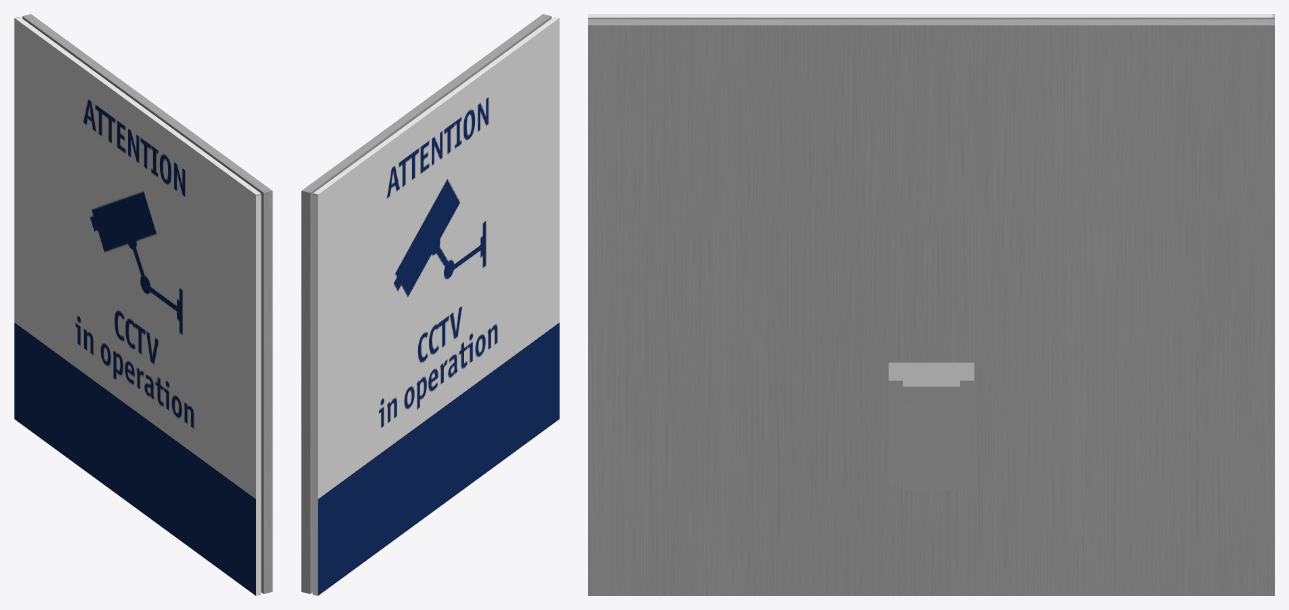
The model's file is scotrail_cctv_warning.obj.
3 renders of one model, left to right at view 1: azimuth 30°, elevation 25°; view 2: azimuth 150°, elevation 25°; view 3: azimuth 270°, elevation 25°, orthographic. The views are drawn at different scales.
Parts seen in each view (by area): view 1: cube; view 2: cube; view 3: cube.
Boxes of the visible parts, bbox=[...] form: cube: bbox=[14, 14, 272, 595]; cube: bbox=[301, 14, 559, 595]; cube: bbox=[588, 14, 1274, 595].
Size of the model in its own units: 0.0922 by 0.6875 by 0.75.
2 materials, 2 textured.
